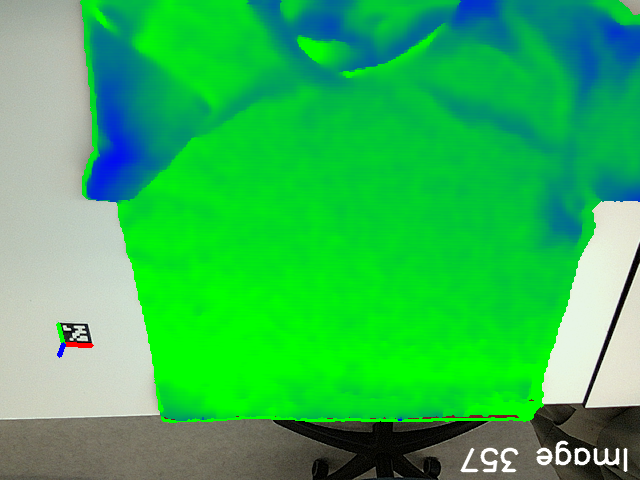V: (177, 80, 221, 132)
